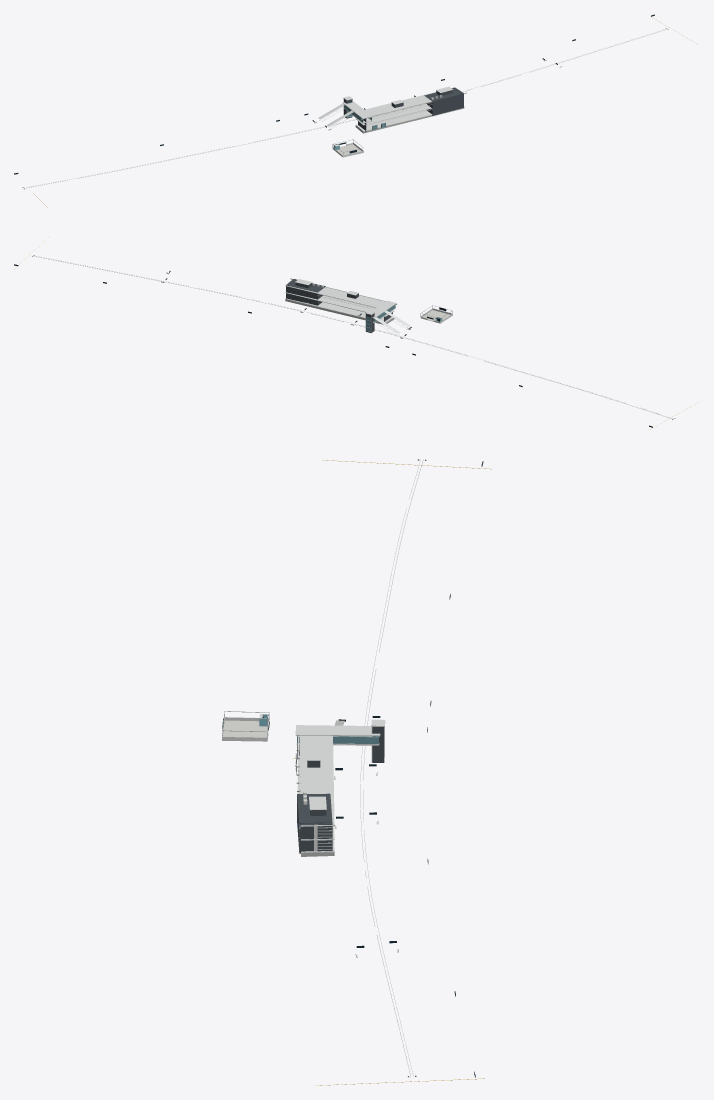
3 renders of one model, top to bottom at view 1: azimuth 30°, elevation 25°; view 2: azimuth 150°, elevation 25°; view 3: azimuth 270°, elevation 25°, orthographic. The views are drawn at different scales.
Parts seen in each view (by area): view 1: 站體樓板與水平腰帶, 南端深灰設備量體; view 2: 站體樓板與水平腰帶, 南端深灰設備量體; view 3: 站體樓板與水平腰帶, 南端深灰設備量體.
Part boxes in pixels (bbox=[...]): 站體樓板與水平腰帶: bbox=[356, 87, 464, 131]; 南端深灰設備量體: bbox=[425, 87, 463, 115]; 站體樓板與水平腰帶: bbox=[285, 279, 394, 322]; 南端深灰設備量體: bbox=[286, 279, 325, 305]; 站體樓板與水平腰帶: bbox=[299, 735, 334, 852]; 南端深灰設備量體: bbox=[297, 794, 332, 853].
Size of the model in its own units: 465 by 15.22 by 83.55.
